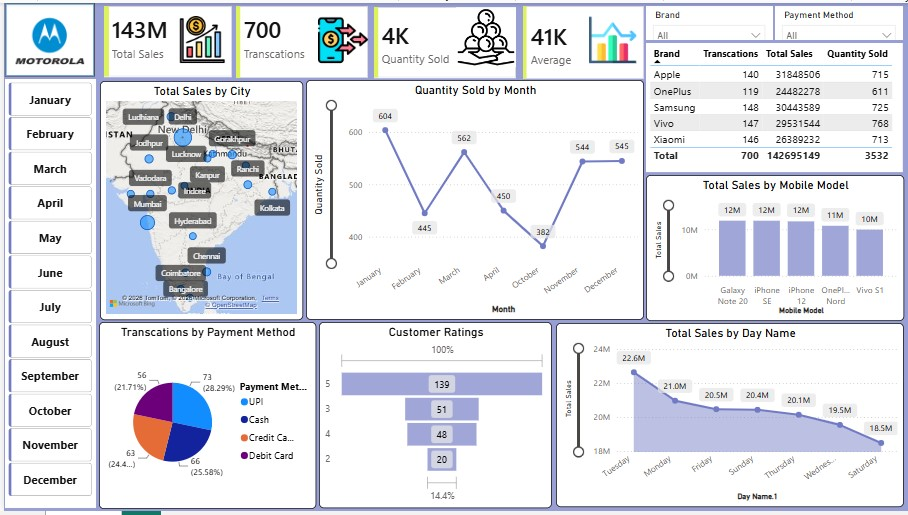

What the dashboard file says about the page in this screenshot:
{"tool":"powerbi","page":{"name":"Page 1","canvas":[1280,720],"ordinal":0},"visuals":[{"type":"cardVisual","fields":{"Data":["Mobile_Sales.Transcations"]},"box":[328.8,4.3,187.1,102],"z":0},{"type":"cardVisual","fields":{"Data":["Mobile_Sales.Toatal_Sales"]},"box":[141.7,4.3,181.4,100.6],"z":1000},{"type":"shape","box":[1.4,0,127.3,104.4],"z":2000},{"type":"image","box":[0,0,130.4,107.7],"z":3000},{"type":"advancedSlicerVisual","fields":{"Values":["Mobile_Sales.DateNew.Variation.Date Hierarchy.Month"]},"box":[1.4,107.3,128.7,607.8],"z":4000},{"type":"cardVisual","fields":{"Data":["Mobile_Sales.Average"]},"box":[735.6,4.3,171.5,103.5],"z":5000},{"type":"cardVisual","fields":{"Data":["Mobile_Sales.Qauntity Sold"]},"box":[524.4,5.7,201.3,100.6],"z":6000},{"type":"image","box":[246.6,11.3,69.4,80.8],"z":7000},{"type":"image","box":[445,4.3,70.9,97.8],"z":8000},{"type":"image","box":[640.6,0,85,96.4],"z":9000},{"type":"image","box":[829.1,11.3,66.6,82.2],"z":10000},{"type":"lineChart","fields":{"Y":["Mobile_Sales.Qauntity Sold"],"Category":["Mobile_Sales.DateNew.Variation.Date Hierarchy.Month","Mobile_Sales.DateNew.Variation.Date Hierarchy.Day"]},"box":[428,109.1,479.1,340.2],"z":11000},{"type":"clusteredColumnChart","title":"Total Sales by Mobile Model","fields":{"Category":["Mobile_Sales.Mobile Model"],"Y":["Mobile_Sales.Toatal_Sales"]},"box":[909.9,243.8,365.7,206.9],"z":12000},{"type":"pieChart","fields":{"Category":["Mobile_Sales.Payment Method"],"Y":["Mobile_Sales.Transcations"]},"box":[134.6,452.1,307.6,265],"z":13000},{"type":"funnel","title":" Customer Ratings ","fields":{"Category":["Mobile_Sales.Customer Ratings"],"Y":["CountNonNull(Mobile_Sales.Customer Ratings)"]},"box":[446.5,452.1,330.2,263.6],"z":14000},{"type":"areaChart","title":"Total Sales by Day Name","fields":{"Y":["Mobile_Sales.Total Sales"],"Category":["Mobile_Sales.Day Name.1"]},"box":[782.4,453.5,493.2,260.8],"z":15000},{"type":"tableEx","fields":{"Values":["Mobile_Sales.Brand","Mobile_Sales.Transcations","Mobile_Sales.Total Sales","Mobile_Sales.Qauntity Sold"]},"box":[909.9,56.7,364.3,182.8],"z":16000},{"type":"slicer","fields":{"Values":["Mobile_Sales.Brand"]},"box":[909.9,4.3,178.6,48.2],"z":17000},{"type":"slicer","fields":{"Values":["Mobile_Sales.Payment Method"]},"box":[1092.8,4.3,181.4,48.2],"z":18000},{"type":"map","fields":{"Category":["Mobile_Sales.City"],"Size":["Mobile_Sales.Total Sales"]},"box":[136.1,110.6,287.7,338.7],"z":19000}]}

Visuals, with their boxes in screenshot pixels (x1, y1, x2, y2), scaled from the page's 1280x720 canvas onto the 908x515 screenshot:
cardVisual - Mobile_Sales.Transcations: 233,3,366,76
cardVisual - Mobile_Sales.Toatal_Sales: 101,3,229,75
shape: 1,0,91,75
image: 0,0,93,77
advancedSlicerVisual - Mobile_Sales.DateNew.Variation.Date Hierarchy.Month: 1,77,92,511
cardVisual - Mobile_Sales.Average: 522,3,643,77
cardVisual - Mobile_Sales.Qauntity Sold: 372,4,515,76
image: 175,8,224,66
image: 316,3,366,73
image: 454,0,515,69
image: 588,8,635,67
lineChart - Mobile_Sales.Qauntity Sold x Mobile_Sales.DateNew.Variation.Date Hierarchy.Month: 304,78,643,321
"Total Sales by Mobile Model" clusteredColumnChart: 645,174,905,322
pieChart - Mobile_Sales.Payment Method x Mobile_Sales.Transcations: 95,323,314,513
" Customer Ratings " funnel: 317,323,551,512
"Total Sales by Day Name" areaChart: 555,324,905,511
tableEx - Mobile_Sales.Brand x Mobile_Sales.Transcations: 645,41,904,171
slicer - Mobile_Sales.Brand: 645,3,772,38
slicer - Mobile_Sales.Payment Method: 775,3,904,38
map - Mobile_Sales.City x Mobile_Sales.Total Sales: 97,79,301,321
